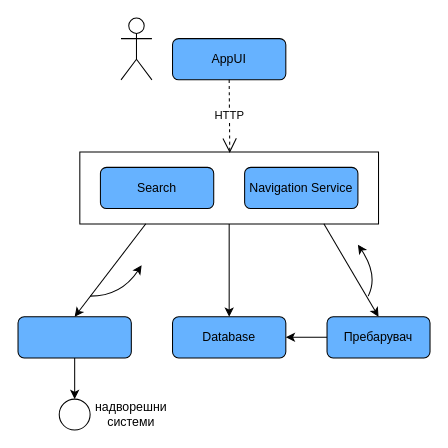
The diagram is 448 pixels wide and 448 high, and some of its shapes have lost their labels. The box of each missing label's shape, as (x1, y1, x2, y2) in pixels:
User: (120, 17, 152, 80)
Менувачници: (17, 316, 131, 358)
